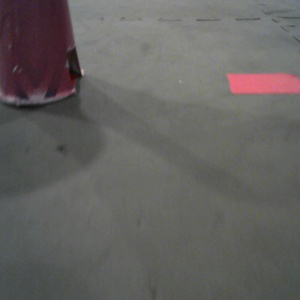middle: (1, 1, 86, 108)
